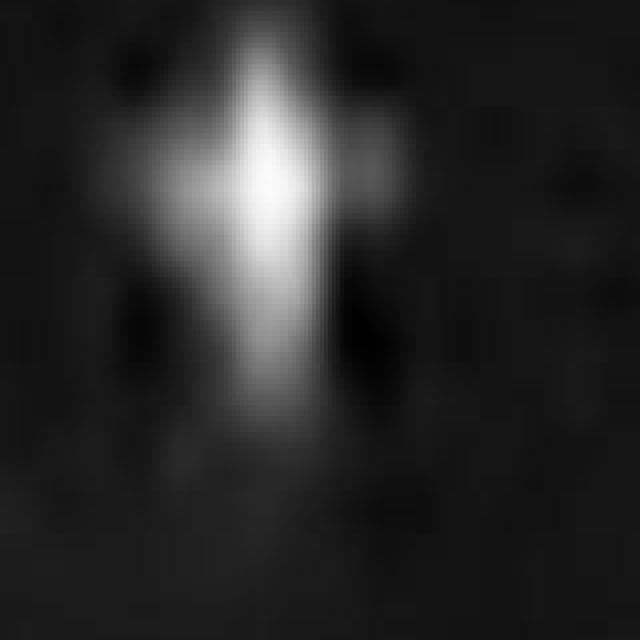person: (139, 27, 375, 430)
